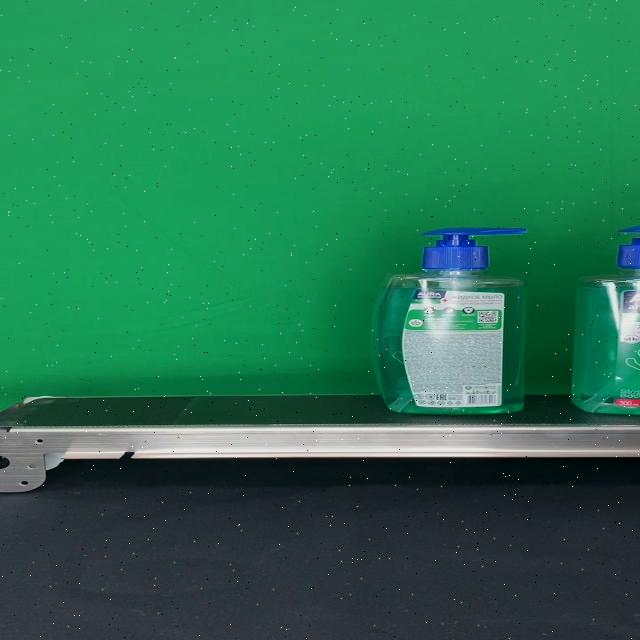Bottle: (372, 228, 527, 414)
Cap: (422, 228, 527, 270)
